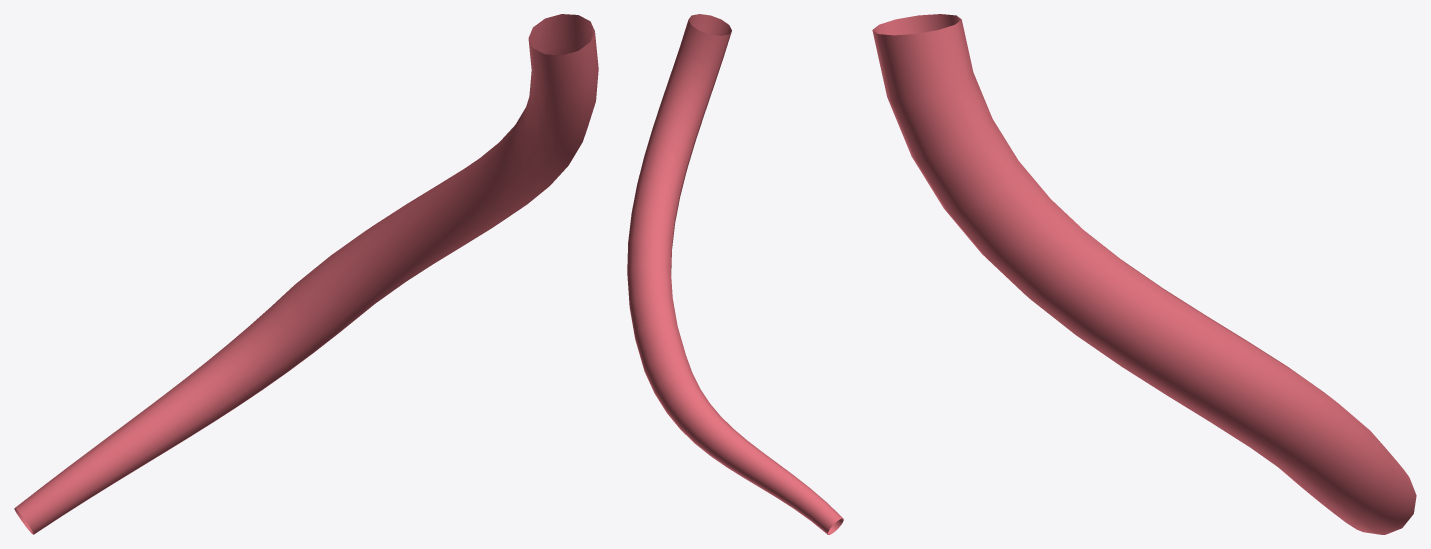
The picture shows the model from 3 angles, left to right: view 1: azimuth 30°, elevation 25°; view 2: azimuth 150°, elevation 25°; view 3: azimuth 270°, elevation 25°; orthographic projection. The views are drawn at different scales.
Visible parts, largest first — view 1: ZA_66986012fcbf26b2; view 2: ZA_66986012fcbf26b2; view 3: ZA_66986012fcbf26b2.
Part boxes in pixels (x1,y1,x2,y2): ZA_66986012fcbf26b2: [14, 14, 598, 534]; ZA_66986012fcbf26b2: [627, 14, 843, 534]; ZA_66986012fcbf26b2: [872, 14, 1416, 534].
Bounding box in the file's own units: 0.00858 × 0.0108 × 0.00724.
